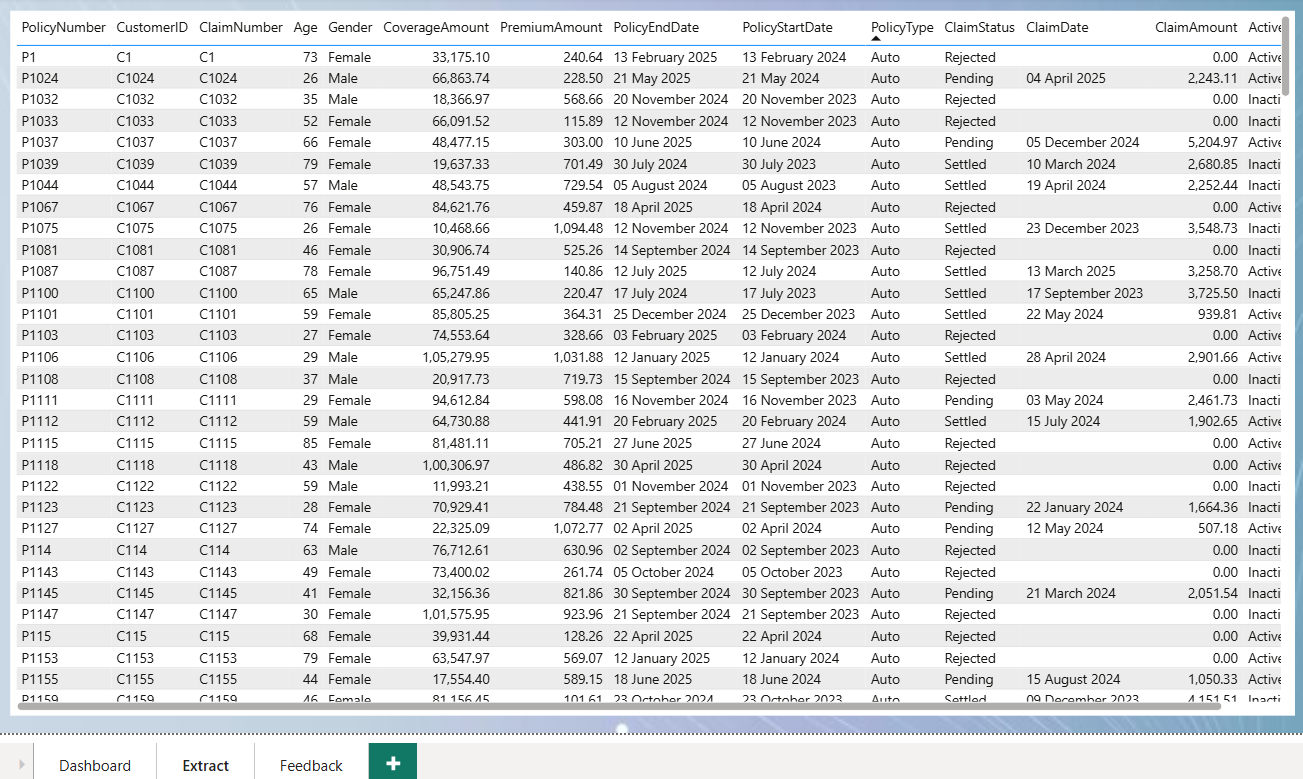

The page's visual inventory and layout, read from the dashboard file:
{"tool":"powerbi","page":{"name":"Extract","canvas":[1280,720],"ordinal":1},"visuals":[{"type":"image","box":[0,0,1280.3,720.2],"z":0},{"type":"tableEx","fields":{"Values":["InsuranceData.PolicyNumber","InsuranceData.CustomerID","InsuranceData.ClaimNumber","InsuranceData.Age","InsuranceData.Gender","InsuranceData.CoverageAmount","InsuranceData.PremiumAmount","InsuranceData.PolicyEndDate","InsuranceData.PolicyStartDate","InsuranceData.PolicyType","InsuranceData.ClaimStatus","InsuranceData.ClaimDate"]},"box":[11,13.5,1257.1,689.7],"z":1000}]}

Visuals, with their boxes on the page's 1280x720 design canvas (x1, y1, x2, y2). These are canvas units, not pixel positions in the 1303x779 screenshot, which may show the page scaled, cropped or inside an application window:
image: [left=0, top=0, right=1280, bottom=720]
tableEx - InsuranceData.PolicyNumber x InsuranceData.CustomerID: [left=11, top=14, right=1268, bottom=703]
